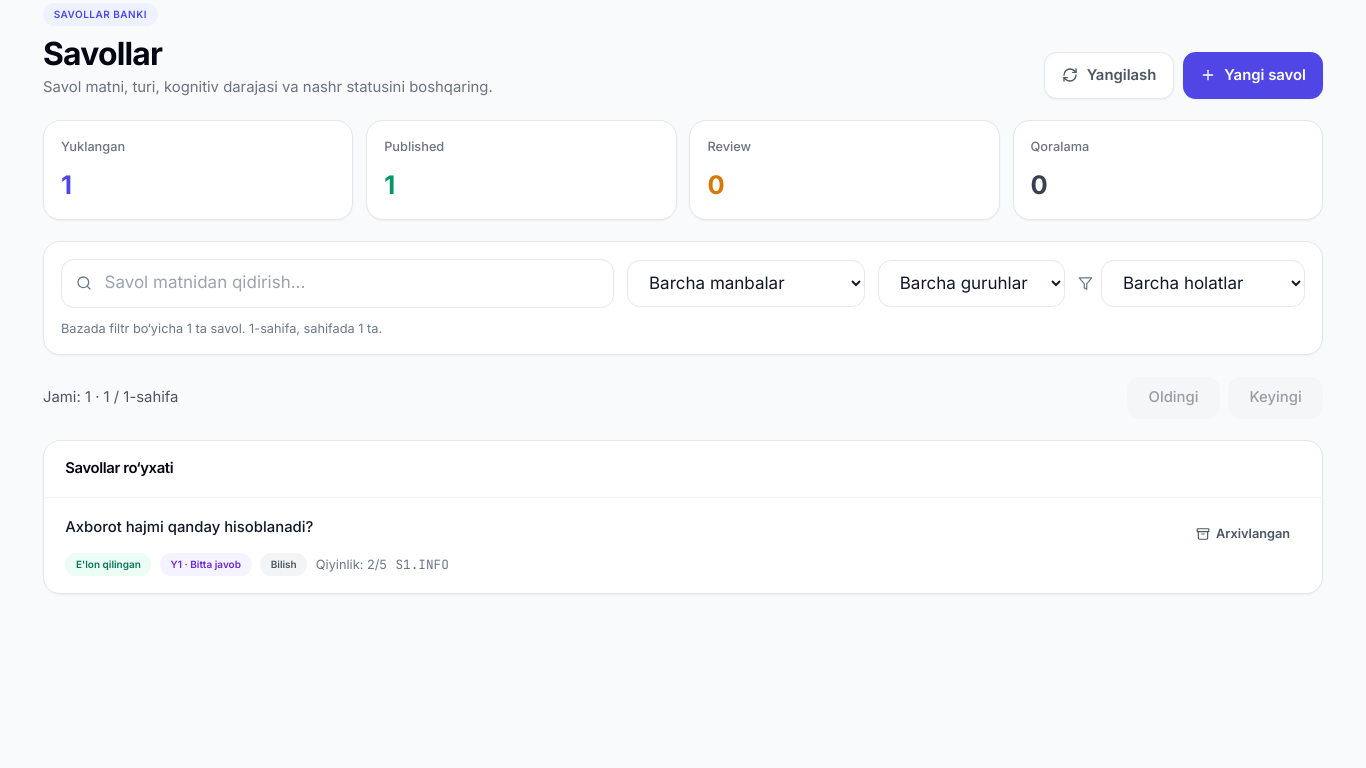
Test case: Admin content pages backend boundary › QuestionsPage backend savollarini render qiladi va qidiruvda empty state beradi
Check: the text "Axborot hajmi qanday hisoblanadi?" is shown, box [65,518,313,536]
Type "mavjud emas" into the field labelled "Savol matnidan qidirish" at (338, 283), box [61,259,614,308]
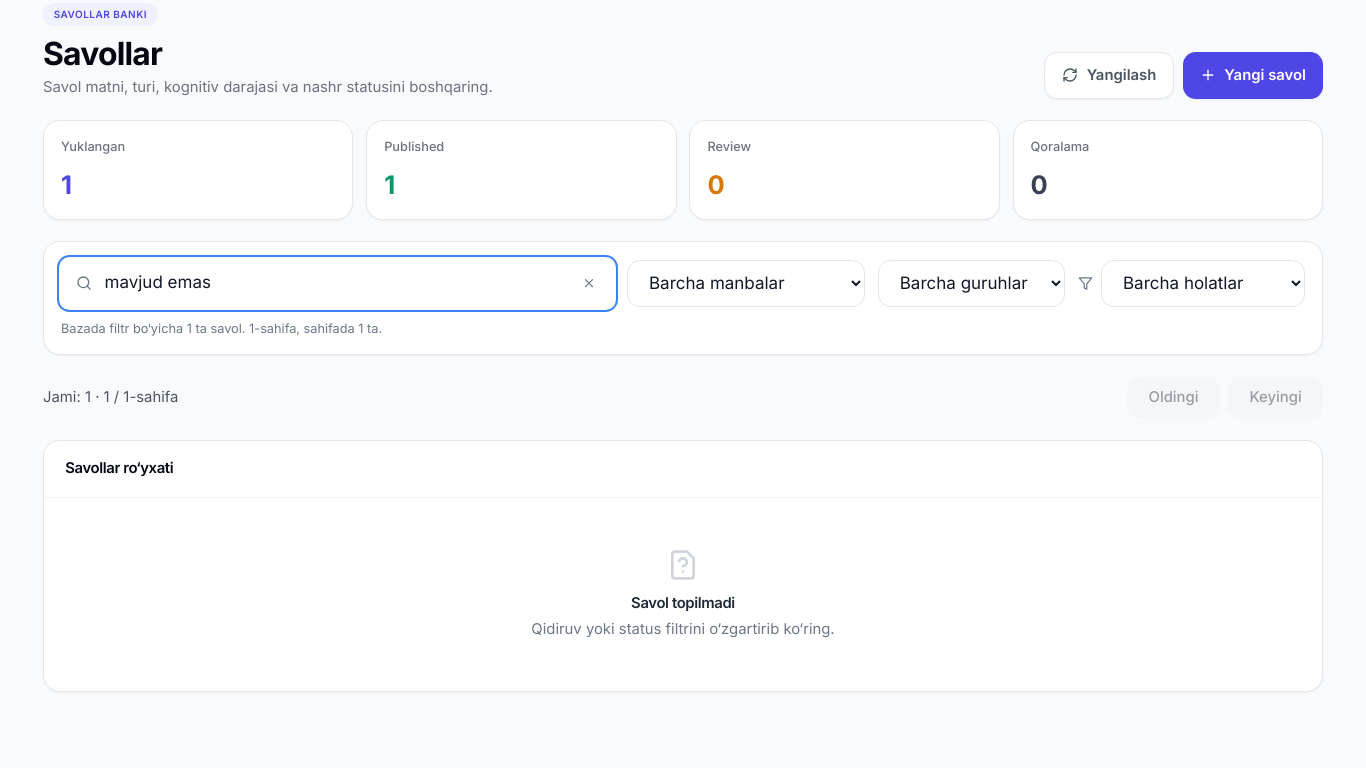
Check: the heading "Savol topilmadi" is shown, box [631,594,735,612]
